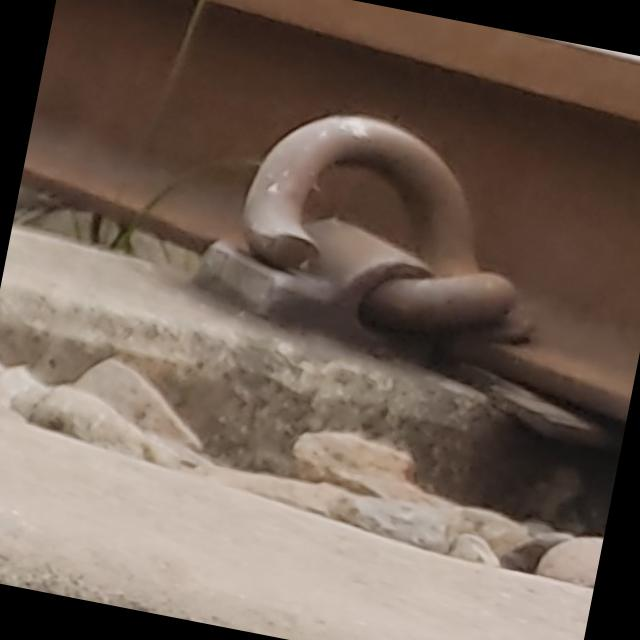track_bolt: (217, 88, 553, 360)
